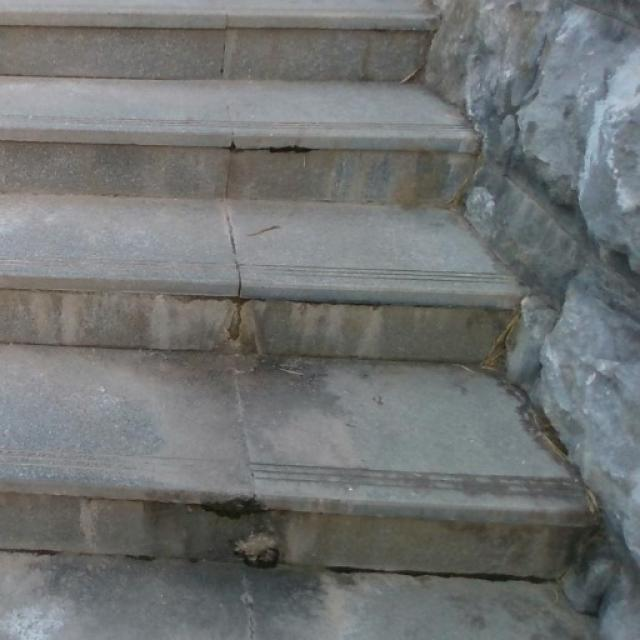Stairs: (0, 0, 602, 597)
